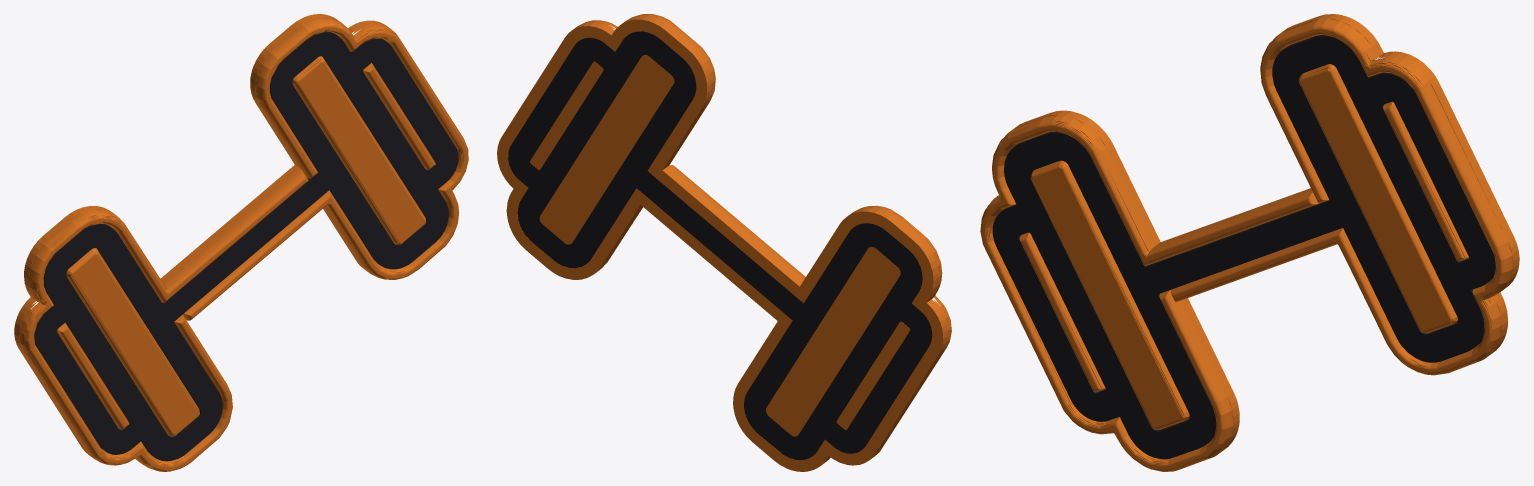
The model's file is workouts_t1.glb.
3 views of the same model, side by side, from view 1: azimuth 30°, elevation 25°; view 2: azimuth 150°, elevation 25°; view 3: azimuth 330°, elevation 25° (orthographic). The views are drawn at different scales.
Parts seen in each view (by area): view 1: mark, mark_channel; view 2: mark, mark_channel; view 3: mark, mark_channel.
Part boxes in pixels (x1,y1,x2,y2): mark: [14, 14, 468, 471]; mark_channel: [34, 31, 458, 461]; mark: [497, 14, 951, 471]; mark_channel: [508, 31, 932, 460]; mark: [980, 14, 1519, 471]; mark_channel: [992, 35, 1495, 459].
Size of the model in its own units: 0.5292 by 0.4697 by 0.024.
